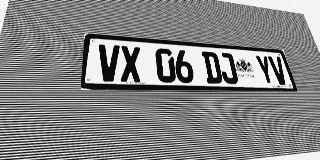0: (155, 48, 176, 83)
6: (173, 49, 195, 83)
D: (202, 51, 223, 84)
J: (217, 52, 239, 84)
V: (97, 44, 120, 82), (268, 56, 289, 85)
X: (120, 46, 142, 82)
Y: (254, 55, 276, 85)
